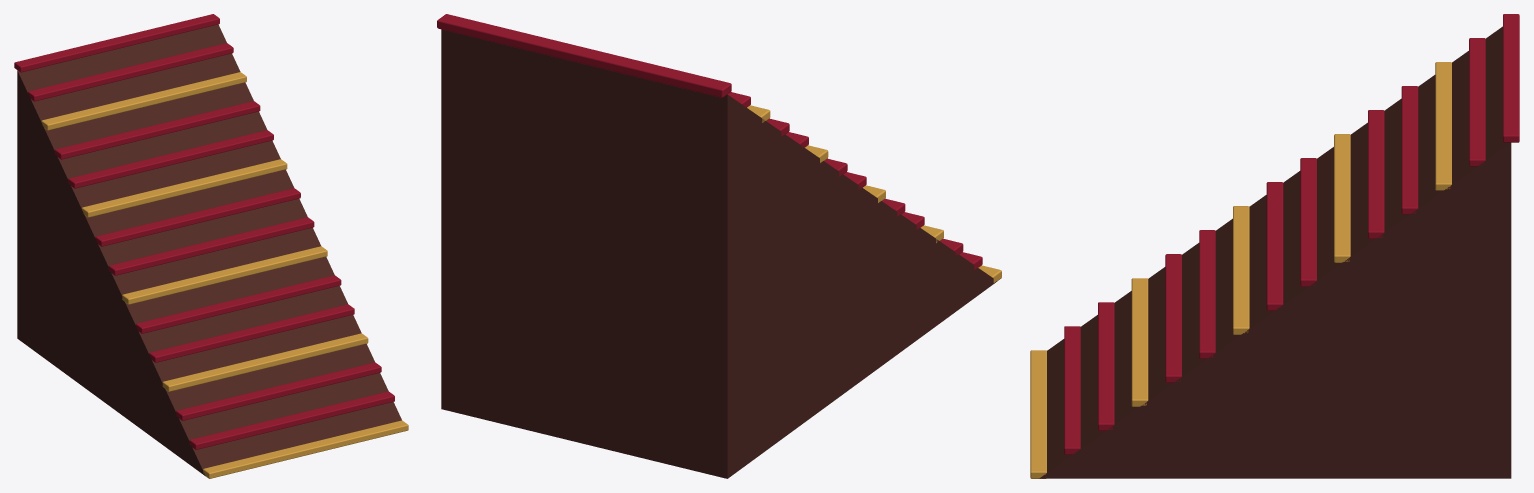
The model's file is roof-ramp.glb.
3 renders of one model, left to right at view 1: azimuth 30°, elevation 25°; view 2: azimuth 150°, elevation 25°; view 3: azimuth 270°, elevation 25°, orthographic. The views are drawn at different scales.
Parts seen in each view (by area): view 1: Deep teak, Crimson woven silk, Antique golden embroidery; view 2: Deep teak, Crimson woven silk, Antique golden embroidery; view 3: Deep teak, Crimson woven silk, Antique golden embroidery.
Boxes of the visible parts, <box> form: Deep teak: <box>17,24,401,476</box>; Crimson woven silk: <box>14,14,394,449</box>; Antique golden embroidery: <box>41,72,408,478</box>; Deep teak: <box>441,29,997,478</box>; Crimson woven silk: <box>437,14,982,269</box>; Antique golden embroidery: <box>747,105,1001,282</box>; Deep teak: <box>1039,26,1511,478</box>; Crimson woven silk: <box>1064,14,1519,454</box>; Antique golden embroidery: <box>1030,62,1451,478</box>.
Bounding box in the file's own units: 2.08 × 2.73 × 3.52.
